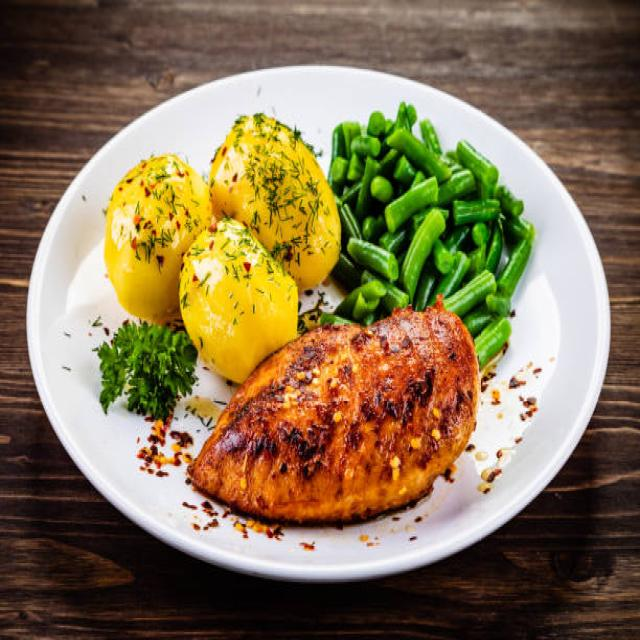Frango: (187, 300, 484, 526)
